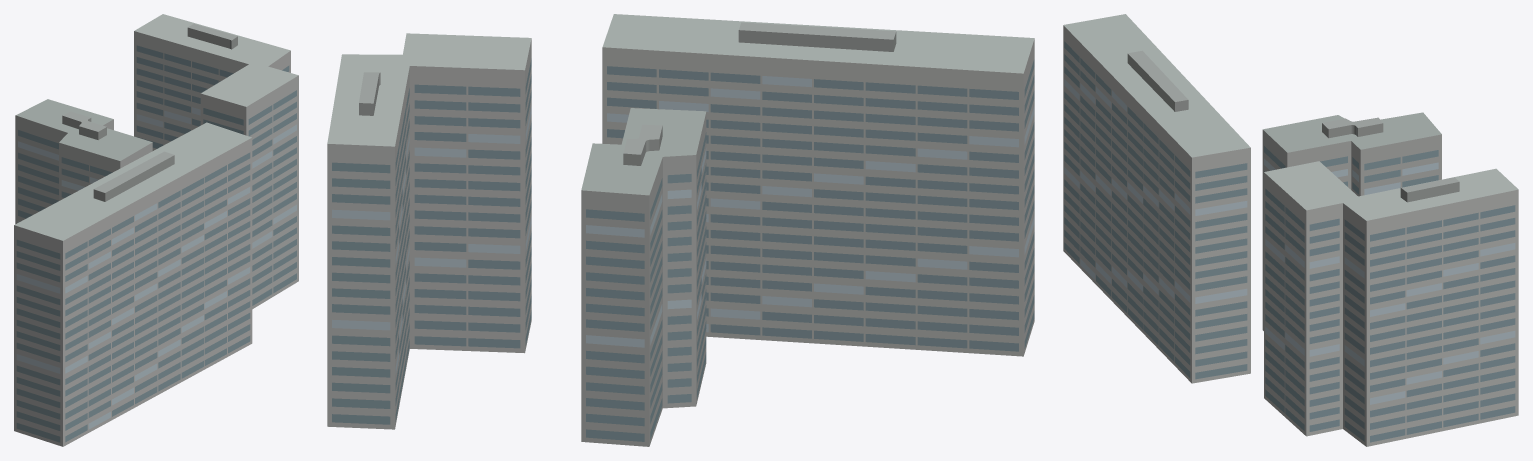
Rendered from apt-a15280304.glb.
The picture shows the model from 3 angles, left to right: view 1: azimuth 30°, elevation 25°; view 2: azimuth 150°, elevation 25°; view 3: azimuth 270°, elevation 25°; orthographic projection. The views are drawn at different scales.
Visible parts, largest first — view 1: apt-a15280304; view 2: apt-a15280304; view 3: apt-a15280304.
Part boxes in pixels (bbox=[...]): apt-a15280304: bbox=[14, 14, 298, 446]; apt-a15280304: bbox=[327, 14, 1034, 446]; apt-a15280304: bbox=[1063, 14, 1518, 446].
Bounding box in the file's own units: 108 × 57.3 × 100.
